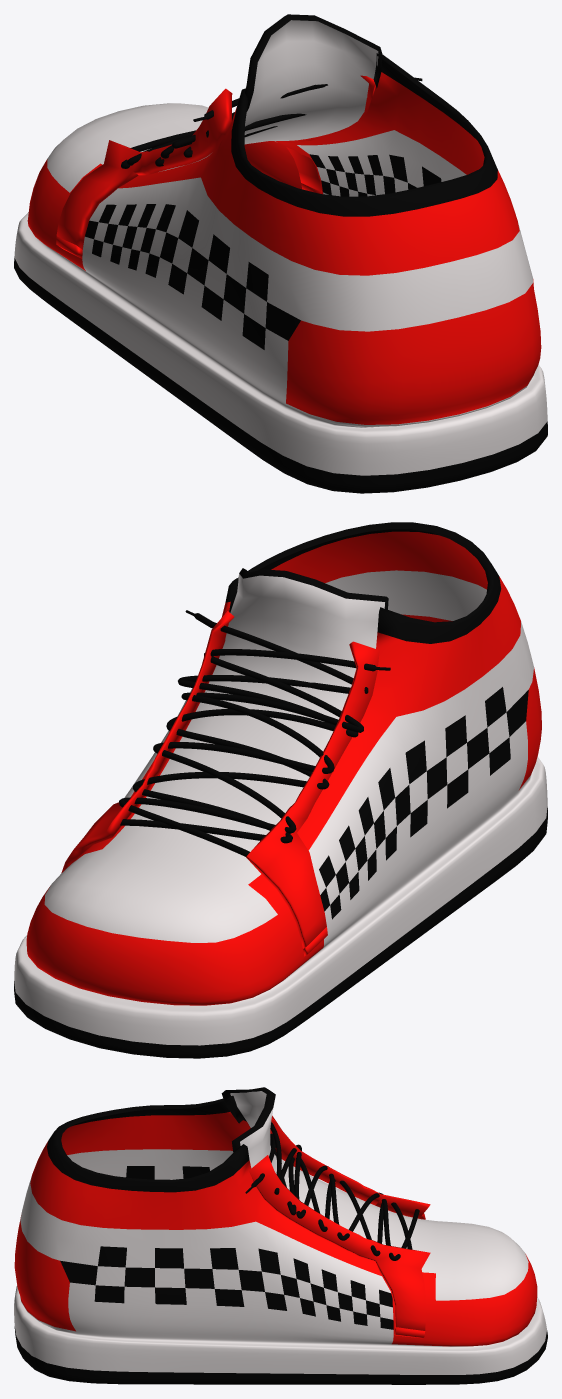
The model's file is sapatoo.fbx.
3 renders of one model, top to bottom at view 1: azimuth 30°, elevation 25°; view 2: azimuth 150°, elevation 25°; view 3: azimuth 270°, elevation 25°, orthographic. The views are drawn at different scales.
Parts seen in each view (by area): view 1: Cube, Cube.003, Cube.004, NurbsPath.001, NurbsPath; view 2: Cube, NurbsPath.001, Cube.003, NurbsPath, Cube.004; view 3: Cube, Cube.004, NurbsPath.001, Cube.003, NurbsPath.
Part boxes in pixels (<box>): Cube: <box>14,14,547,493</box>; Cube.003: <box>56,88,232,258</box>; Cube.004: <box>286,75,375,193</box>; NurbsPath.001: <box>127,98,239,165</box>; NurbsPath: <box>121,77,422,168</box>; Cube: <box>14,522,547,1058</box>; NurbsPath.001: <box>119,649,390,856</box>; Cube.003: <box>246,641,379,956</box>; NurbsPath: <box>120,610,368,843</box>; Cube.004: <box>61,611,234,872</box>; Cube: <box>14,1087,547,1384</box>; Cube.004: <box>249,1155,430,1338</box>; NurbsPath.001: <box>270,1122,419,1260</box>; Cube.003: <box>247,1115,430,1219</box>; NurbsPath: <box>245,1133,412,1256</box>.
Bounding box in the file's own units: 138 × 174 × 337.
